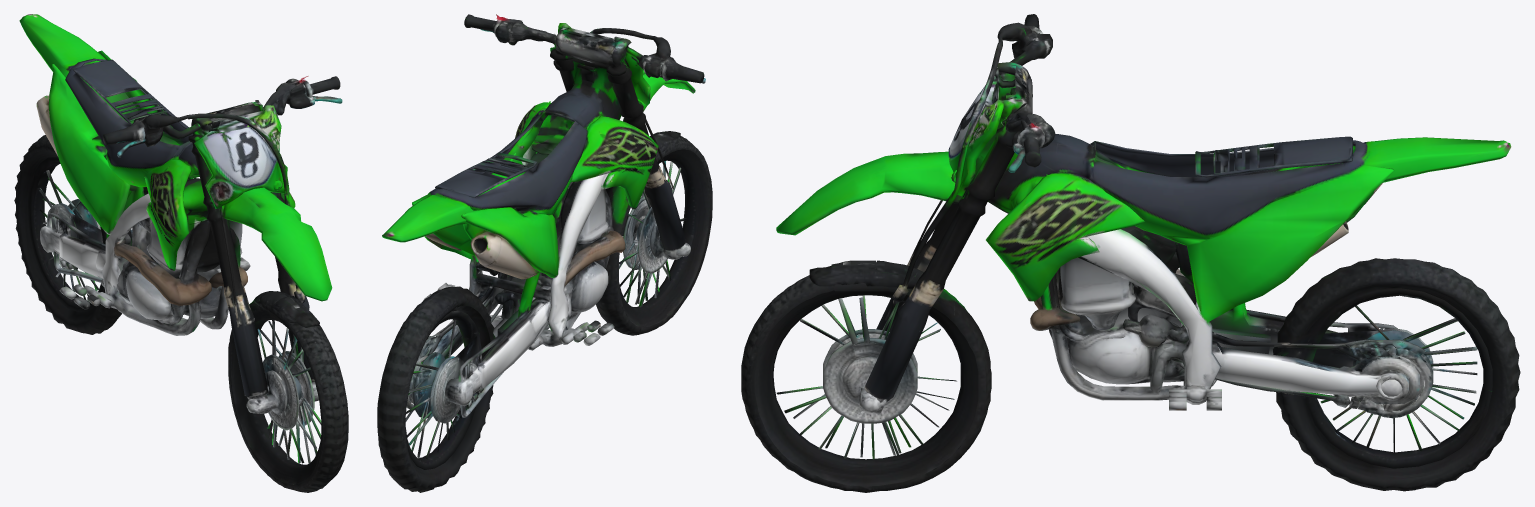
The model's file is bike-CuIBtDh1.glb.
3 views of the same model, side by side, from view 1: azimuth 30°, elevation 25°; view 2: azimuth 150°, elevation 25°; view 3: azimuth 270°, elevation 25° (orthographic). The views are drawn at different scales.
Visible parts, largest first — view 1: part_17, front_wheel, back_wheel, part_20, part_63, part_59, part_56, part_45, part_1, part_52, part_40, part_73 (+7 smaller); view 2: part_17, back_wheel, front_wheel, part_45, part_20, part_1, part_56, part_52, part_40, part_25, part_51, part_73 (+8 smaller); view 3: part_17, back_wheel, front_wheel, part_46, part_58, part_63, part_13, part_74, part_40, part_1, part_44, part_52 (+5 smaller).
Boxes of the visible parts, left/top/right/bottom form: part_17: left=40, top=50, right=264, bottom=335; front_wheel: left=228, top=291, right=348, bottom=492; back_wheel: left=14, top=135, right=132, bottom=334; part_20: left=48, top=64, right=130, bottom=234; part_63: left=222, top=187, right=332, bottom=301; part_59: left=194, top=105, right=287, bottom=208; part_56: left=191, top=141, right=268, bottom=396; part_45: left=144, top=159, right=191, bottom=270; part_1: left=19, top=14, right=144, bottom=212; part_52: left=102, top=113, right=304, bottom=303; part_40: left=116, top=244, right=222, bottom=324; part_73: left=246, top=354, right=298, bottom=430; part_17: left=412, top=27, right=631, bottom=417; back_wheel: left=377, top=286, right=495, bottom=492; front_wheel: left=596, top=131, right=712, bottom=335; part_45: left=571, top=116, right=658, bottom=209; part_20: left=461, top=207, right=558, bottom=278; part_1: left=382, top=194, right=488, bottom=255; part_56: left=608, top=63, right=685, bottom=250; part_52: left=590, top=28, right=705, bottom=83; part_40: left=501, top=251, right=608, bottom=320; part_25: left=470, top=231, right=539, bottom=279; part_51: left=464, top=14, right=559, bottom=52; part_73: left=638, top=207, right=690, bottom=273; part_17: left=972, top=62, right=1408, bottom=404; back_wheel: left=1273, top=258, right=1520, bottom=491; front_wheel: left=741, top=260, right=991, bottom=492; part_46: left=986, top=173, right=1144, bottom=301; part_58: left=864, top=126, right=1014, bottom=399; part_63: left=776, top=151, right=965, bottom=235; part_13: left=1274, top=339, right=1431, bottom=418; part_74: left=823, top=297, right=917, bottom=455; part_40: left=1067, top=306, right=1197, bottom=384; part_1: left=1175, top=137, right=1511, bottom=284; part_44: left=1058, top=226, right=1176, bottom=330; part_52: left=885, top=14, right=1052, bottom=320.
Size of the model in its own units: 0.4825 by 0.6801 by 1.13.
1 material, 1 textured.
